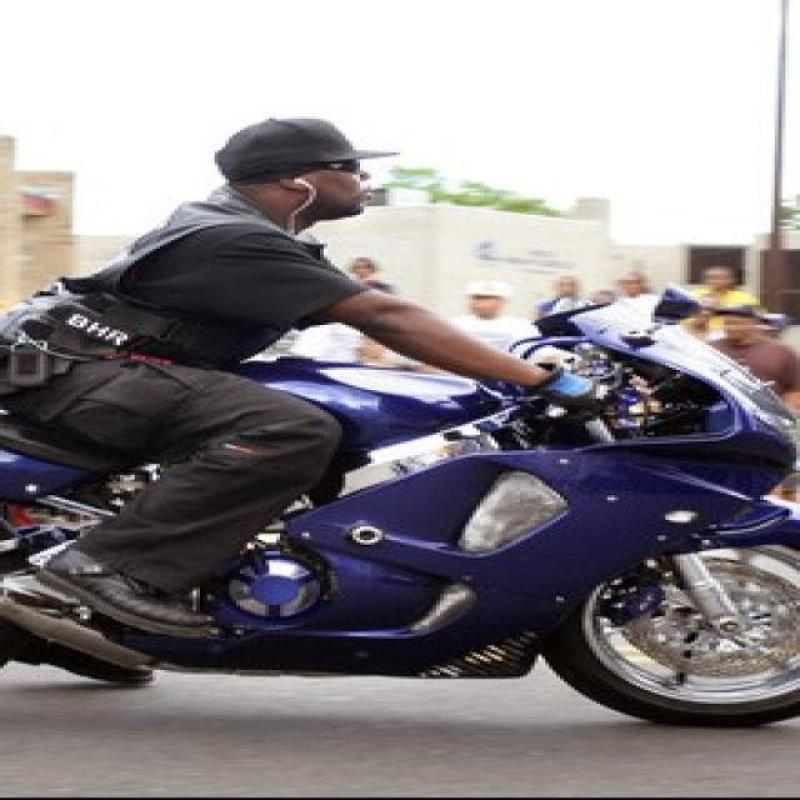nohelmet: (207, 110, 398, 224)
